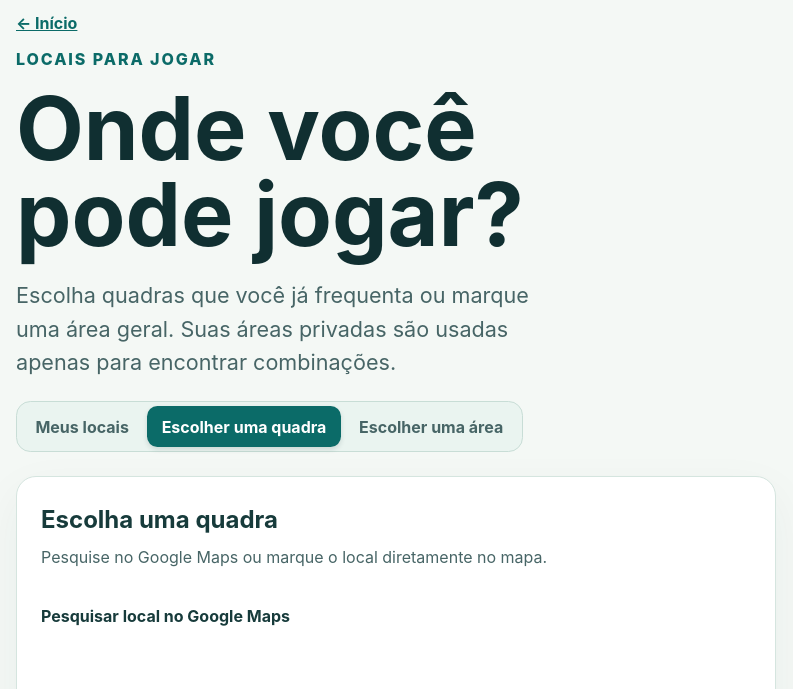
locations page › shows the map unavailable message when Google map loading fails
The image size is (793, 689).
Check: the heading "Escolha uma quadra" is shown, box [41,505,278,534]
Step 1. Click the button "Escolher uma área" → (431, 427), box [345,406,518,447]
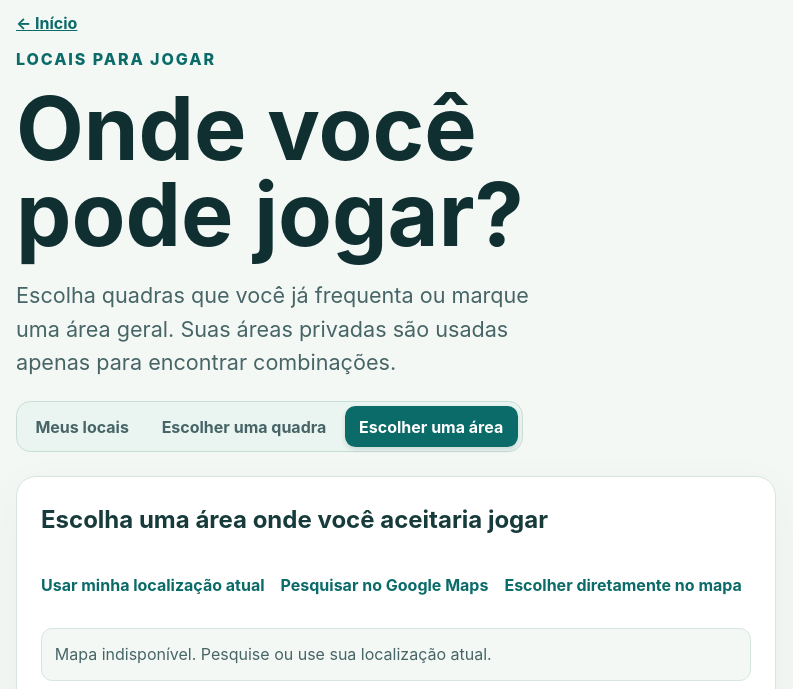
Check: the text "Mapa indisponível. Pesquise ou use sua localização atual." is shown, box [41,628,751,681]
